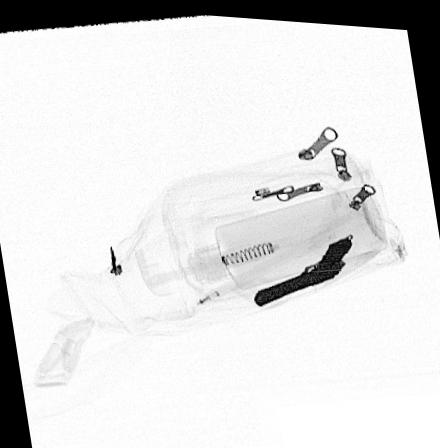Gun: (252, 232, 353, 303)
